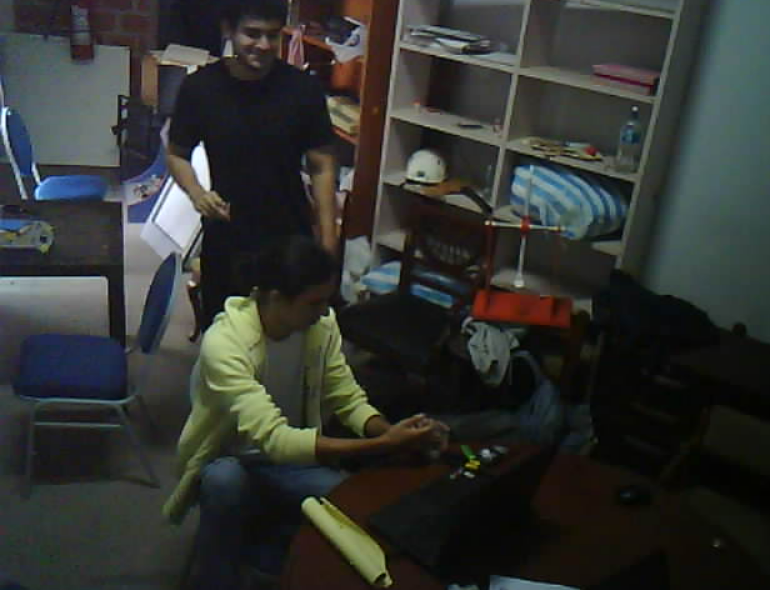person: (144, 232, 463, 590), (158, 0, 347, 281)
